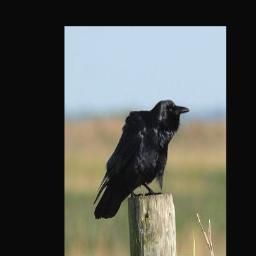Crow: (92, 99, 190, 221)
